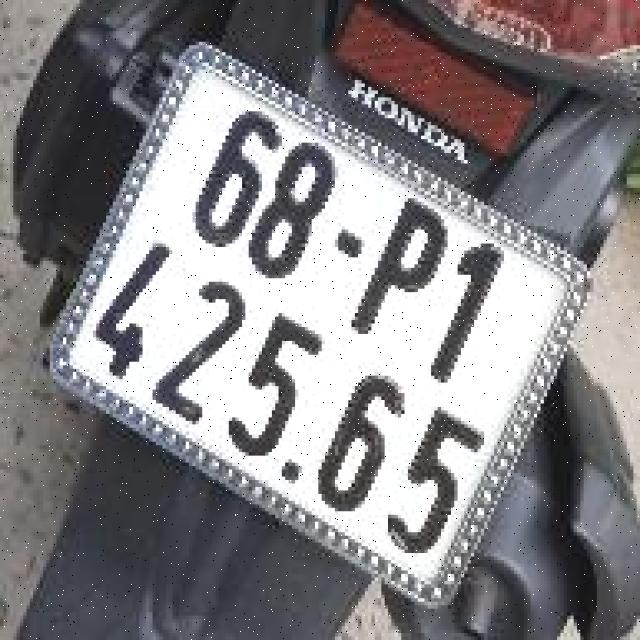1: (390, 216, 524, 404)
2: (136, 260, 263, 441)
4: (73, 227, 197, 394)
5: (206, 297, 342, 483), (366, 394, 501, 577)
6: (299, 349, 421, 535), (178, 91, 296, 262)
8: (229, 116, 353, 299)
P: (334, 183, 469, 363)
